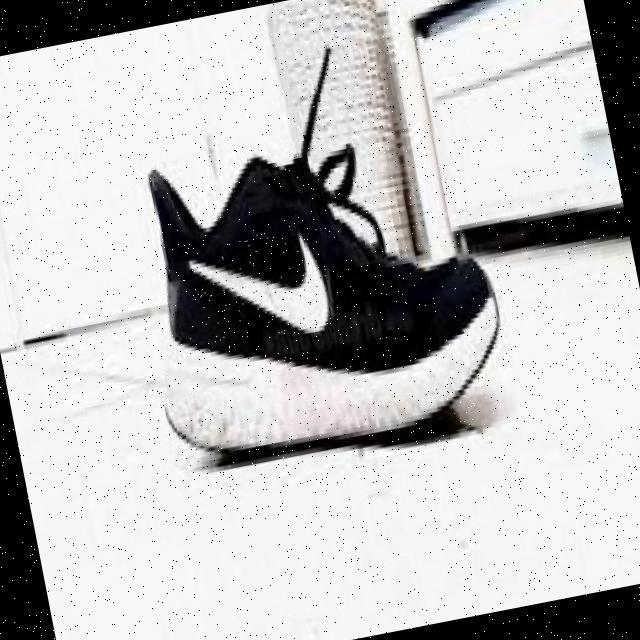Nike: (185, 219, 337, 353)
